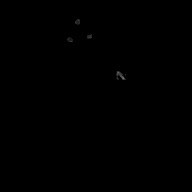v: (62, 16, 92, 43)
